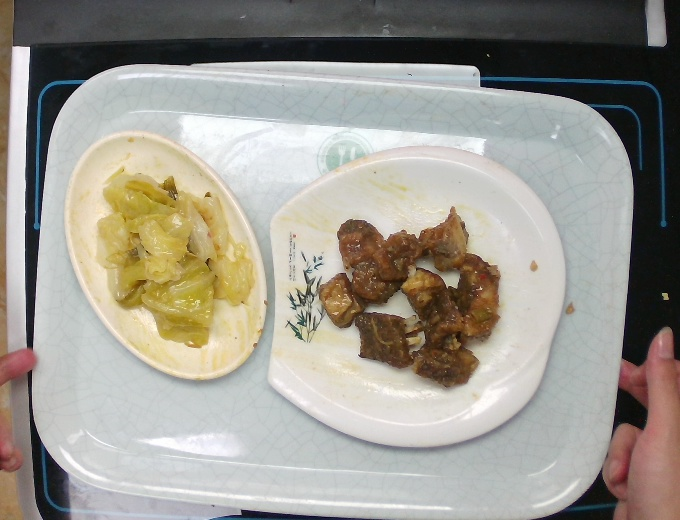JYsf-Mian_Pan: (263, 141, 569, 452)
JYsf-Tuo_Yuan_Wan: (59, 126, 272, 386)
